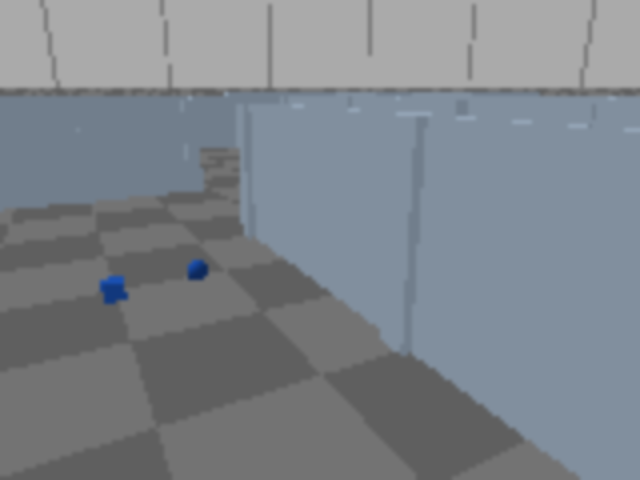puck: (183, 256, 210, 285), (100, 276, 127, 304)
